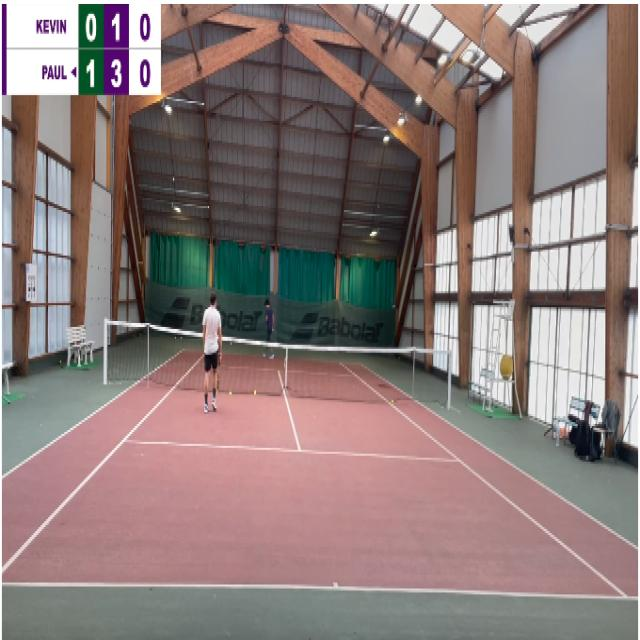ball: (228, 389, 232, 396), (230, 340, 232, 346), (392, 399, 394, 404), (254, 390, 256, 394)
